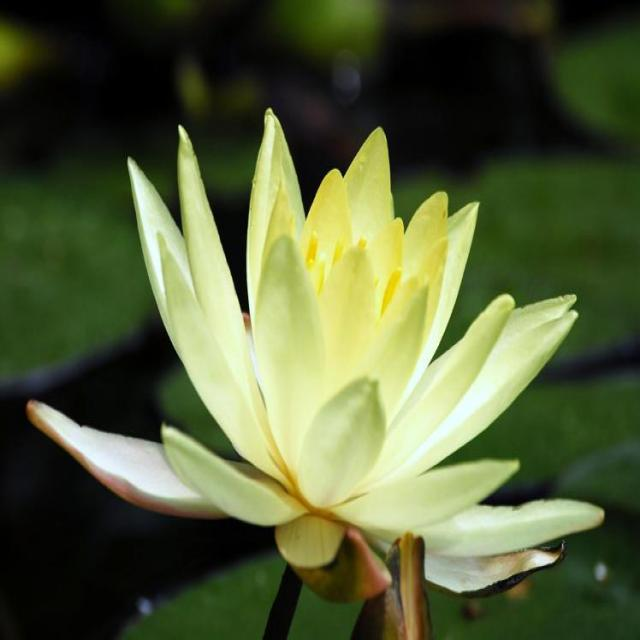rose: (26, 62, 640, 640)
